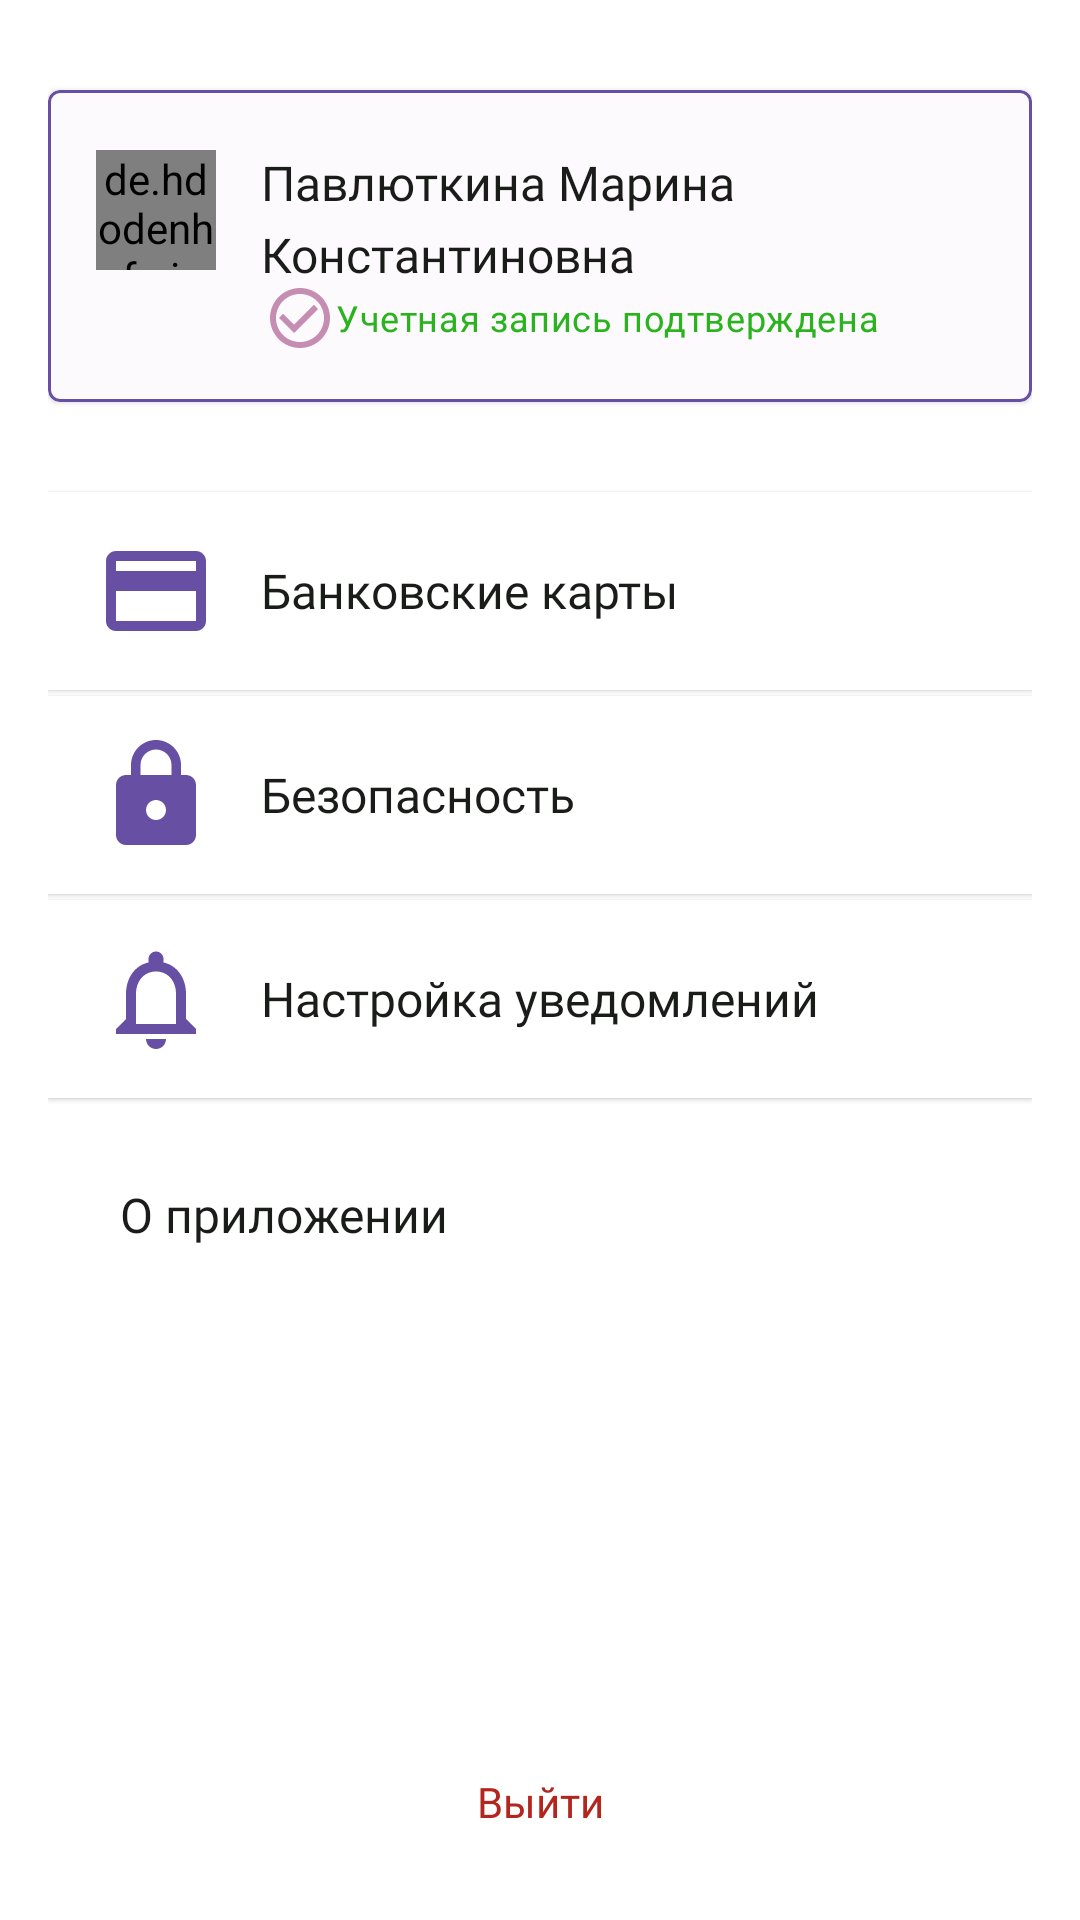

Icon click points for this 1080 x 1920 phone screenshot, format point (x, y):
profile user lock: point (156, 792)
profile user notifications: point (156, 1000)
